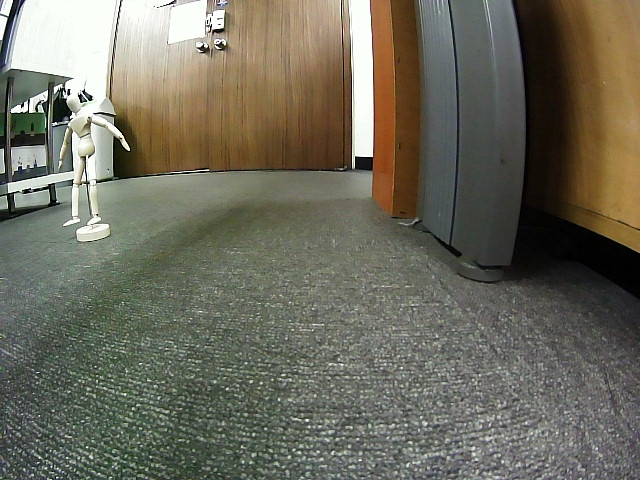person: (57, 92, 130, 227)
